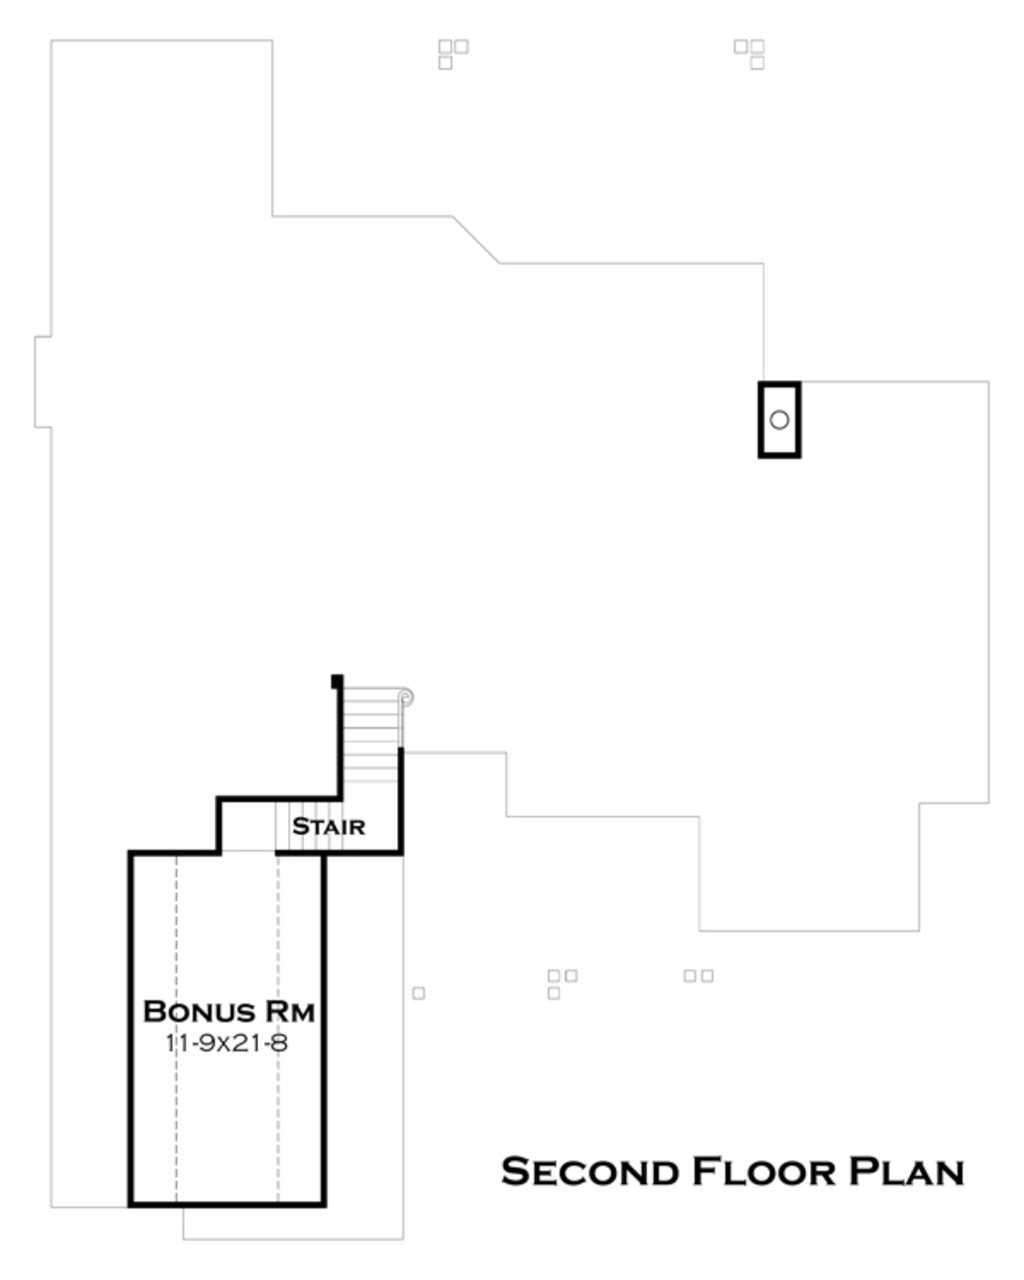stairs: (269, 664, 411, 879)
